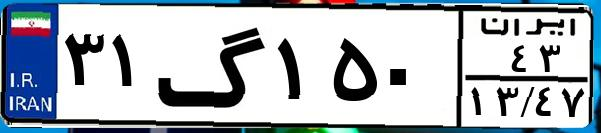0: (385, 28, 445, 110)
1: (270, 28, 330, 110), (110, 28, 156, 98), (470, 70, 495, 125)
3: (57, 26, 110, 100), (537, 27, 568, 80), (495, 70, 520, 125)
4: (508, 27, 537, 80), (535, 70, 560, 125)
5: (330, 28, 385, 110)
7: (560, 70, 590, 125)
گ: (156, 12, 270, 120)
